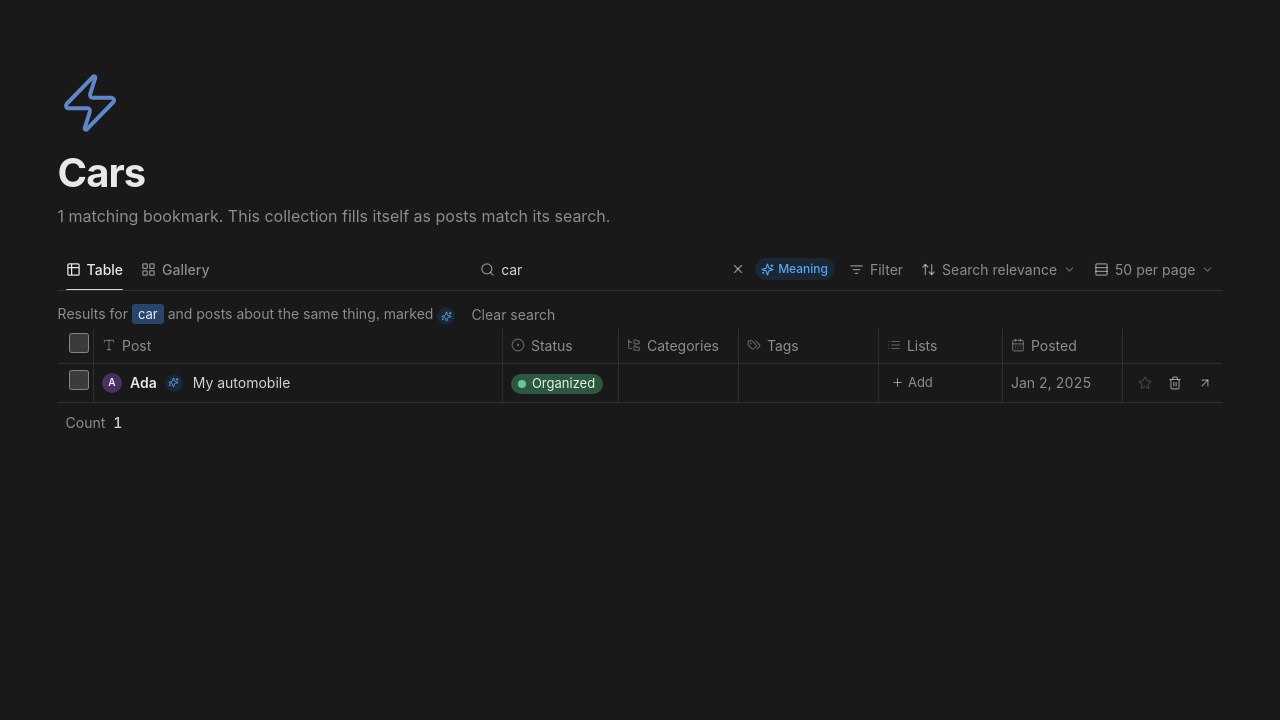
a smart collection's page › opens on the saved search and offers to save a change to it
Check: the heading "Cars" is shown, box [58,148,145,197]
Check: the link "My automobile" is shown, box [193,374,290,391]
Click the button "Meaning". click: x=795, y=269
box: [755,258,835,280]
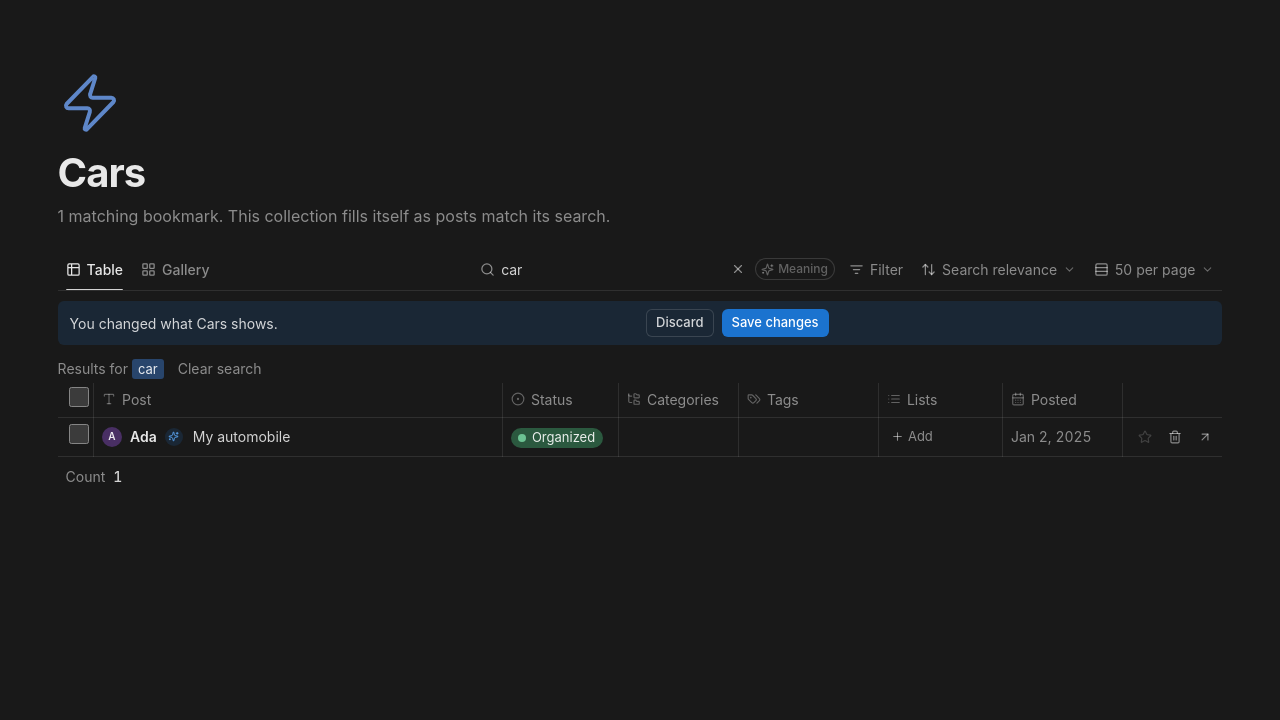
Click the button "Save changes". click: x=775, y=323
box: [722,309,829,337]
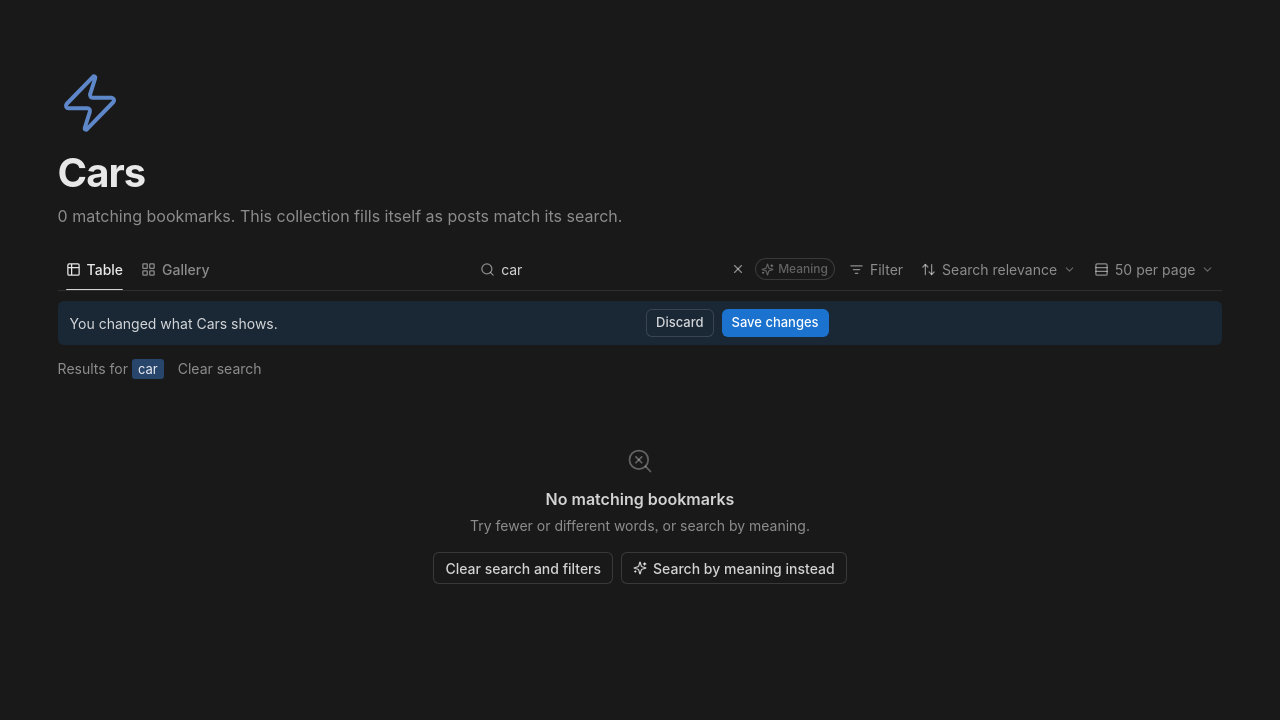
// Discard goes back to what was saved.
Click the button "Discard". click: x=680, y=323
box: [646,309,714,337]
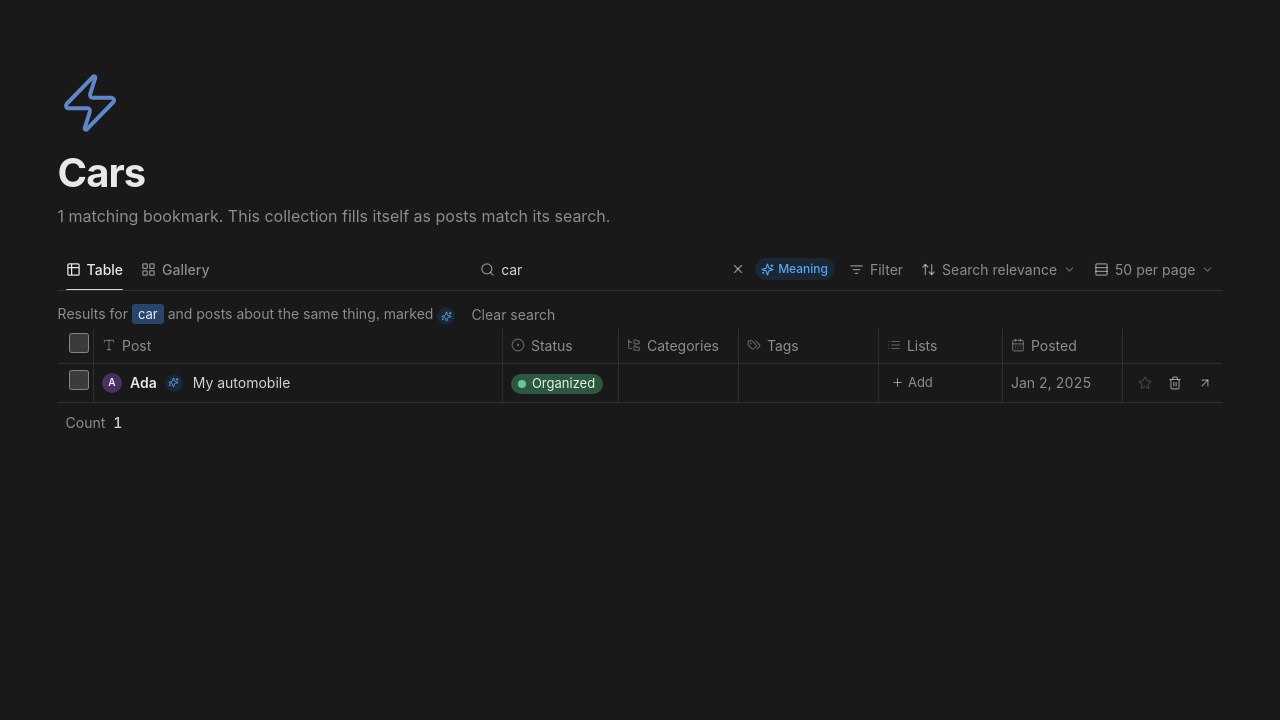
Check: the button "Save changes" is gone
